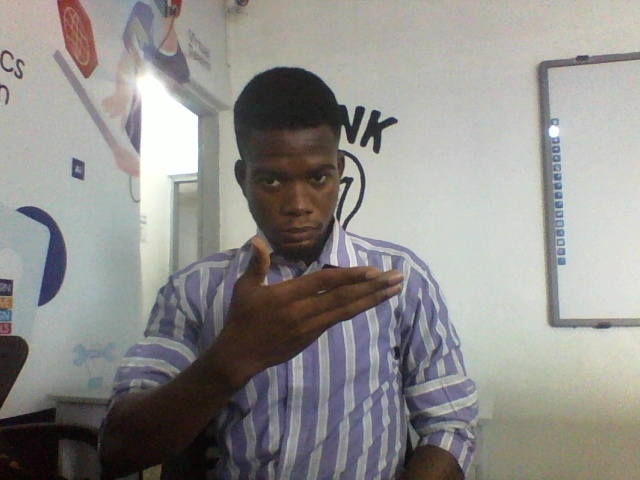you_are_welcome: (165, 240, 404, 388)
